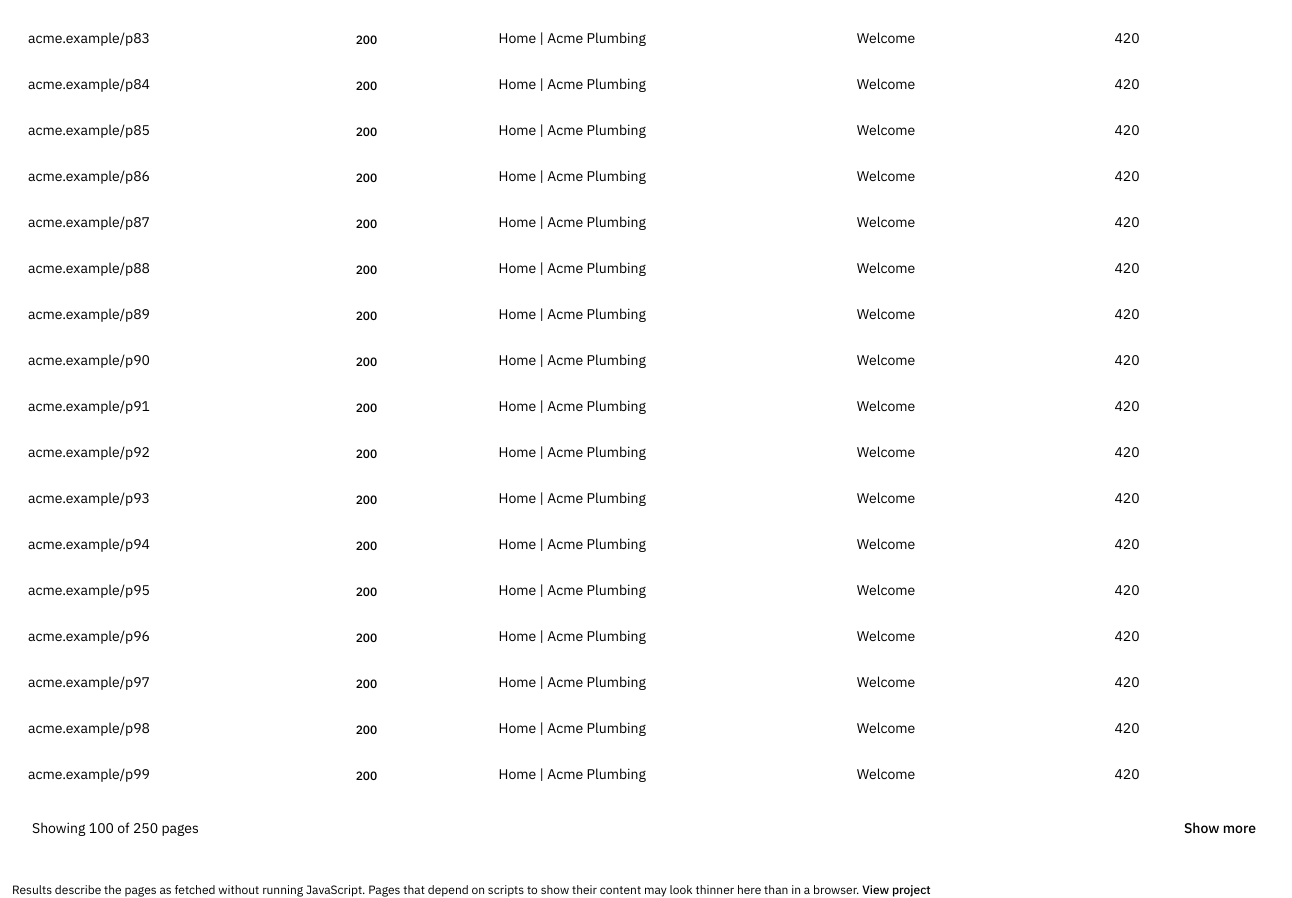
Test case: CrawlerPage › shows large page lists 100 rows at a time
(page scrolled)
Check: the text "Showing 100 of 250 pages" is shown, box top-left (32, 818), bottom-right (199, 838)
Step 1. Click the button "Show more" → coordinates (1220, 828), box top-left (1168, 810), bottom-right (1272, 846)
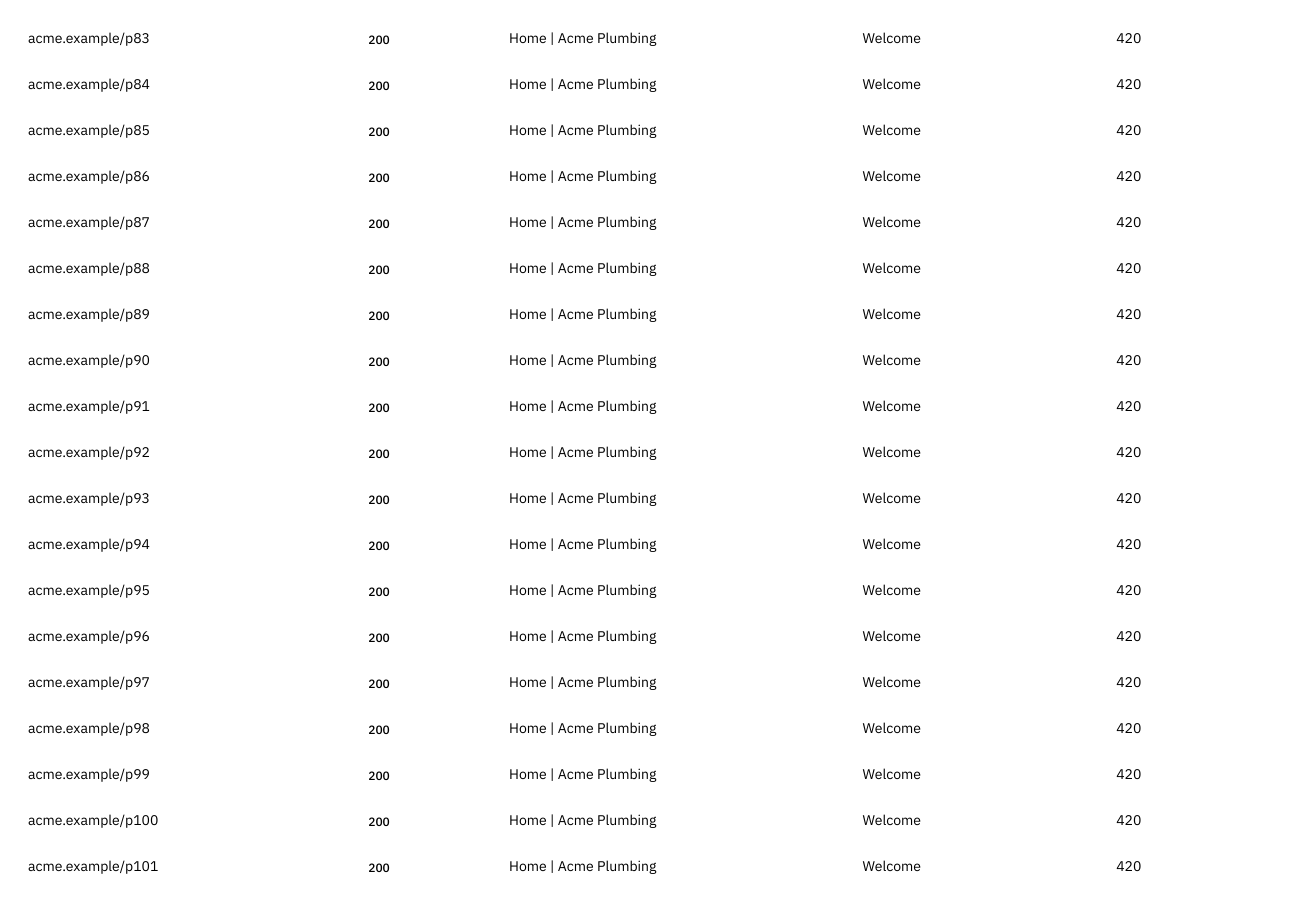
Check: the button "Show more" is gone
